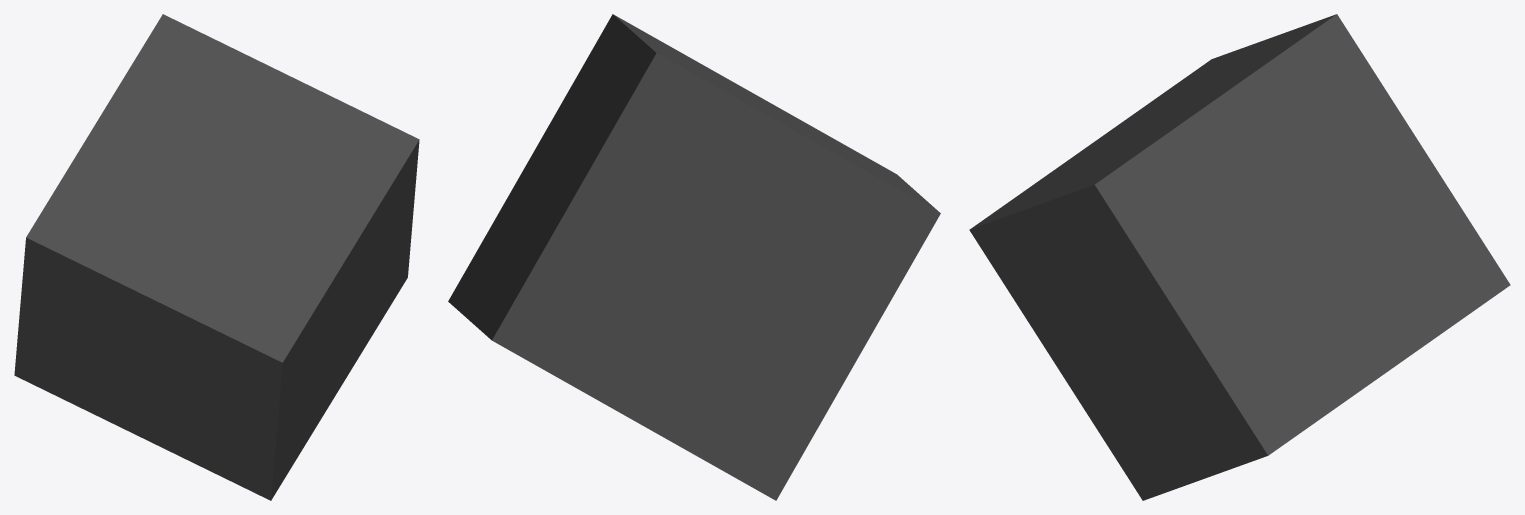
3 views of the same model, side by side, from view 1: azimuth 30°, elevation 25°; view 2: azimuth 150°, elevation 25°; view 3: azimuth 270°, elevation 25° (orthographic). The views are drawn at different scales.
Parts seen in each view (by area): view 1: node_id5; view 2: node_id5; view 3: node_id5.
Boxes of the visible parts, x1,y1,x2,y2 form: node_id5: (14, 14, 419, 500); node_id5: (448, 14, 940, 500); node_id5: (969, 14, 1510, 500).
Size of the model in its own units: 0.5043 by 0.5064 by 0.5224.
Materials: 1 (1 with a texture image).
